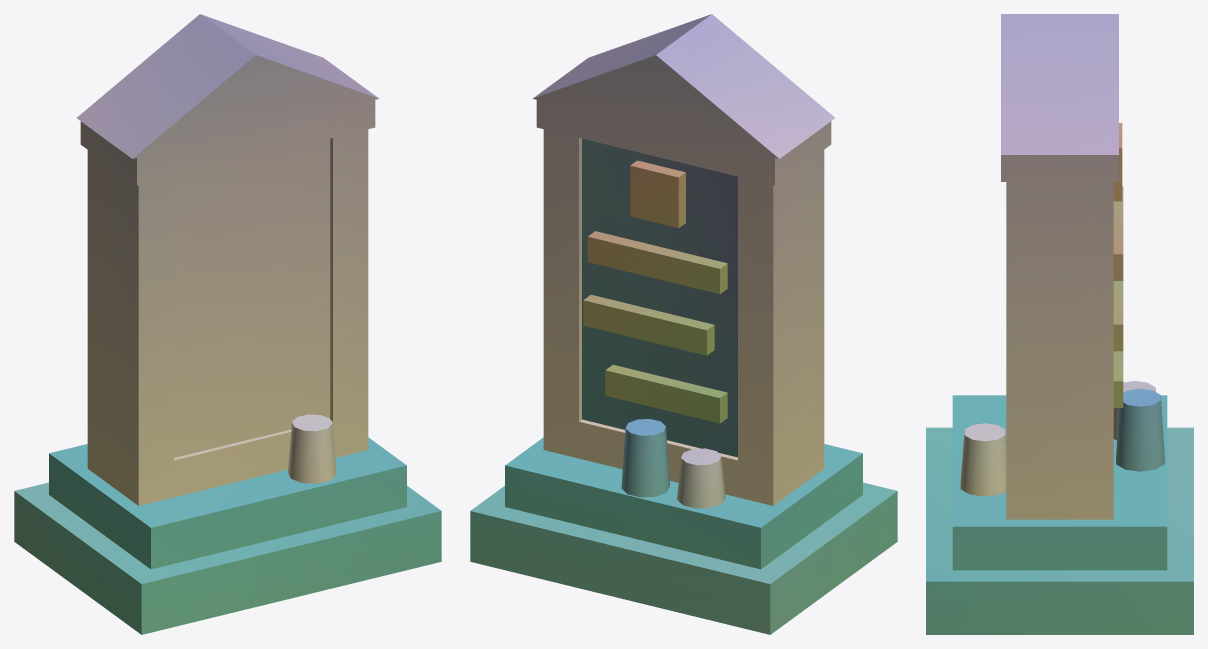
The model's file is word_stone.glb.
3 renders of one model, left to right at view 1: azimuth 30°, elevation 25°; view 2: azimuth 150°, elevation 25°; view 3: azimuth 270°, elevation 25°, orthographic. The views are drawn at different scales.
Parts seen in each view (by area): view 1: tablet, plinth, waxstub_2; view 2: tablet, plinth, tablet_field, script, waxstub, waxstub_1; view 3: tablet, plinth, waxstub, waxstub_2, script, waxstub_1.
Part boxes in pixels (x1,y1,x2,y2): tablet: (77,14,379,505); plinth: (14,437,441,634); waxstub_2: (288,414,336,483); tablet: (532,14,834,505); plinth: (470,437,897,634); tablet_field: (582,138,737,457); script: (583,160,727,423); waxstub: (621,419,669,497); waxstub_1: (677,448,725,508); tablet: (1001,14,1118,519); plinth: (926,395,1193,634); waxstub: (1116,388,1164,471); waxstub_2: (960,423,1006,496); script: (1113,123,1123,407); waxstub_1: (1113,381,1155,440).
Size of the model in its own units: 0.68 by 1.12 by 0.5.
